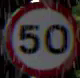Speed limit: (4, 2, 79, 74)
